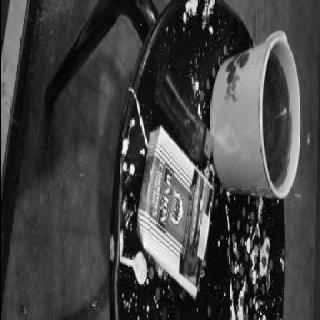objects: (136, 127, 213, 299)
